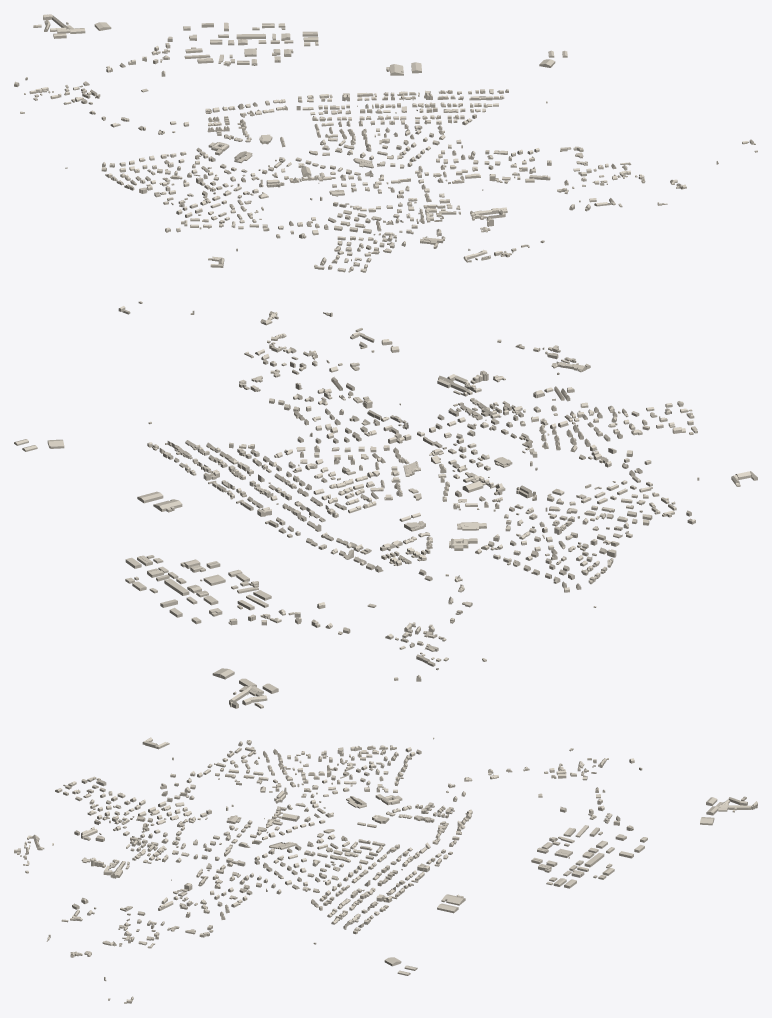
3 renders of one model, top to bottom at view 1: azimuth 30°, elevation 25°; view 2: azimuth 150°, elevation 25°; view 3: azimuth 270°, elevation 25°, orthographic. The views are drawn at different scales.
Bounding box in the file's own units: 1492 × 37.31 × 1747.
